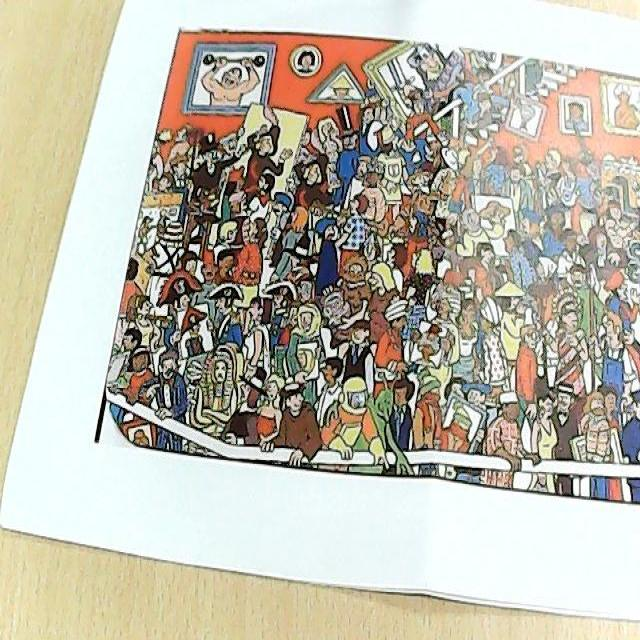waldo: (295, 268, 314, 305)
